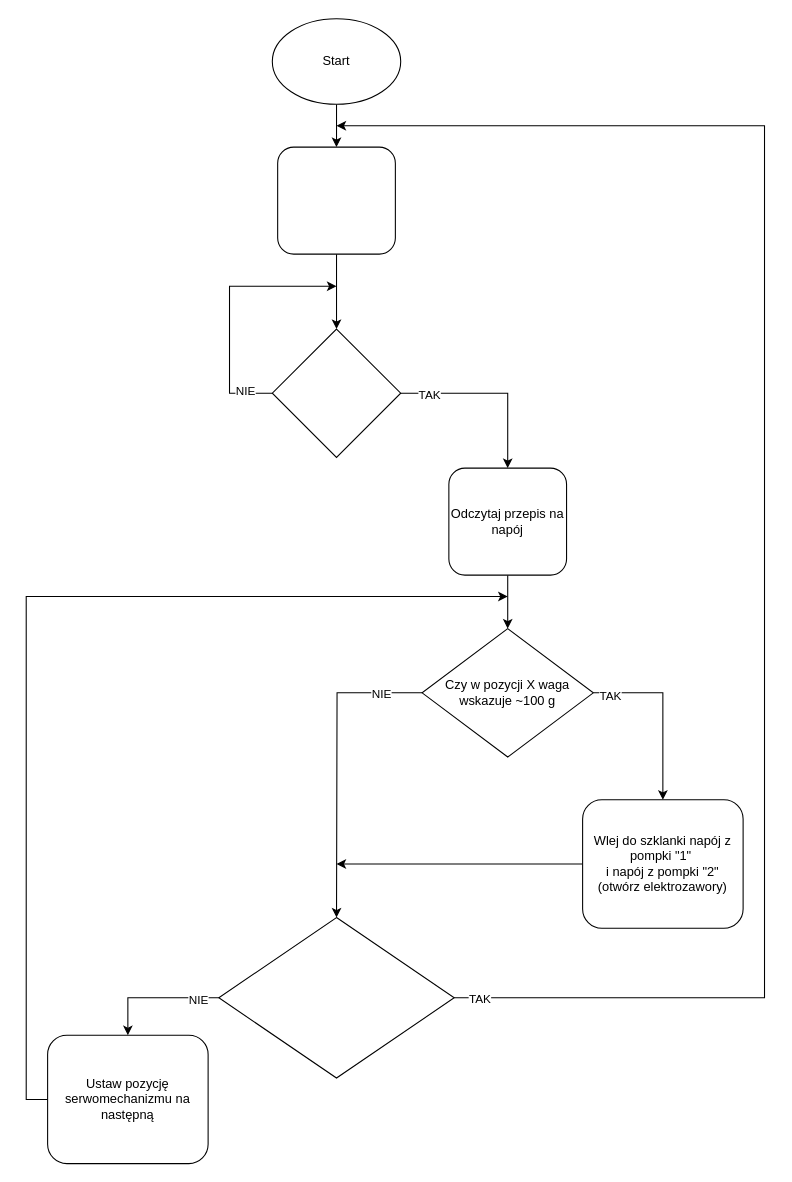
The diagram is 792 pixels wide and 1182 high, and some of its shapes have lost their labels. Here are the shapes that lost their labels. From the top down, the box of each, then its label:
(277, 146, 395, 254): Ustaw pozycję serwomechanizmu na domyślną
(271, 328, 401, 457): Czy użytkownik wcisną przycisk nalewania
(218, 916, 454, 1078): Czy serwomechanizm jest na pozycji końcowej
